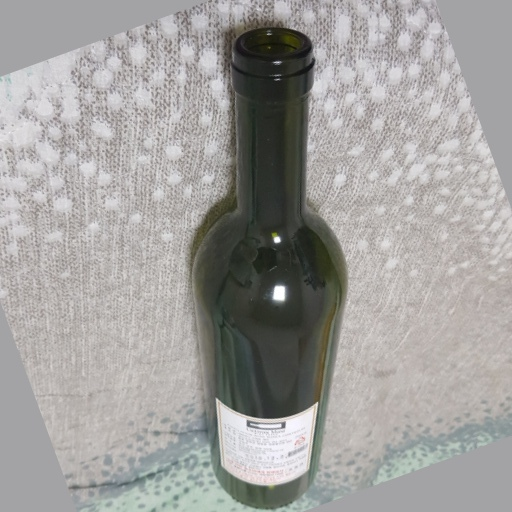Glass_2: (183, 27, 349, 512)
